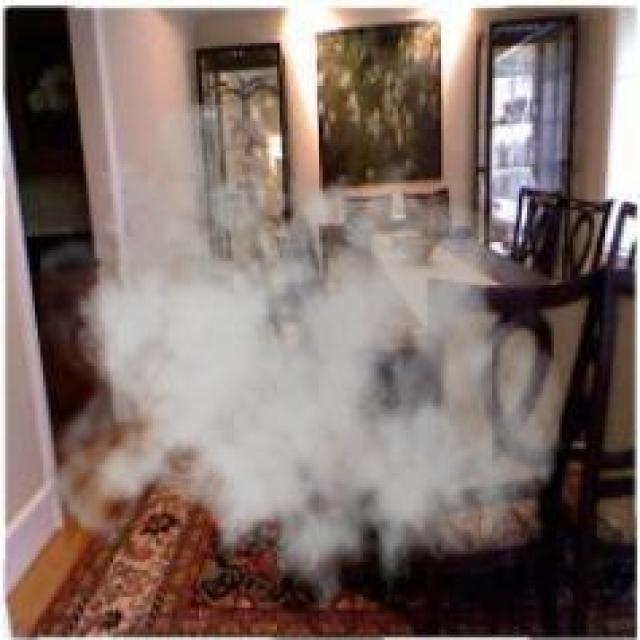fire: (49, 168, 574, 601)
